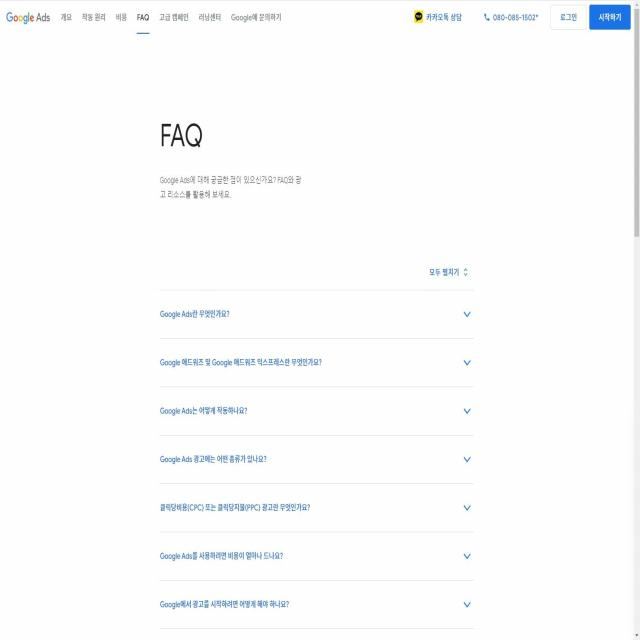button: (590, 5, 630, 31), (550, 5, 586, 29)
select: (427, 262, 469, 282)
